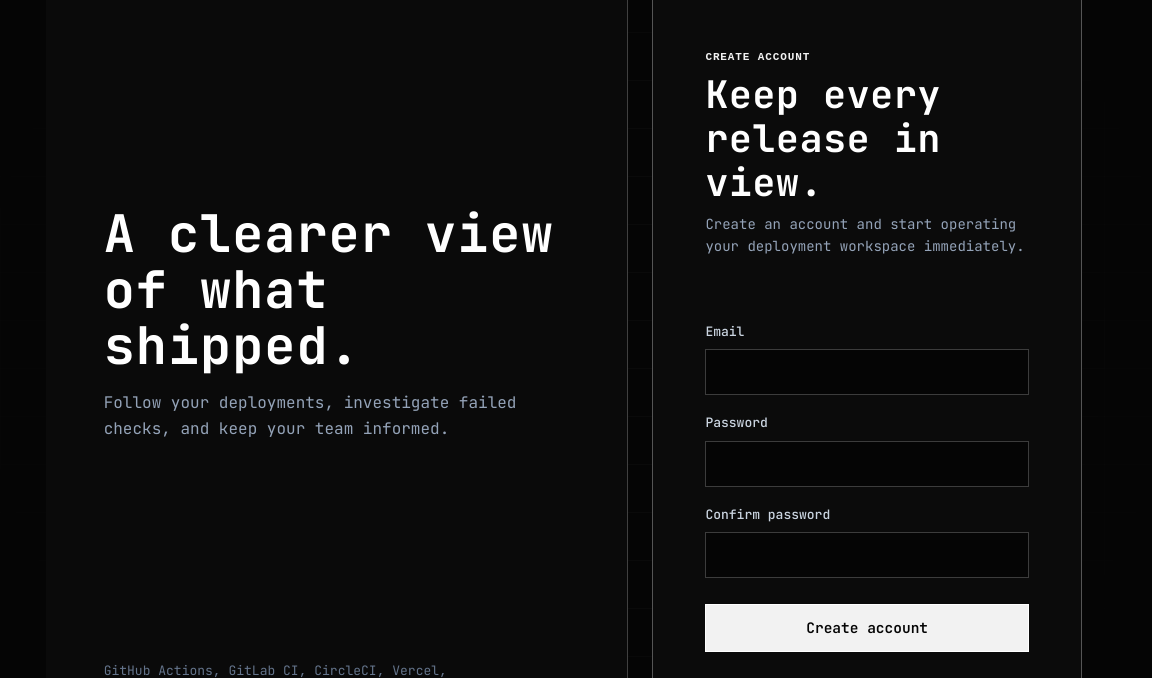
Test: authentication flow › validates signup password confirmation
The image size is (1152, 678).
(page scrolled)
Check: the heading "Keep every release in view." is shown, box [705,69,941,207]
Type "ops@example.com" into the field labelled "Email" at (867, 372), box [705,349,1029,395]
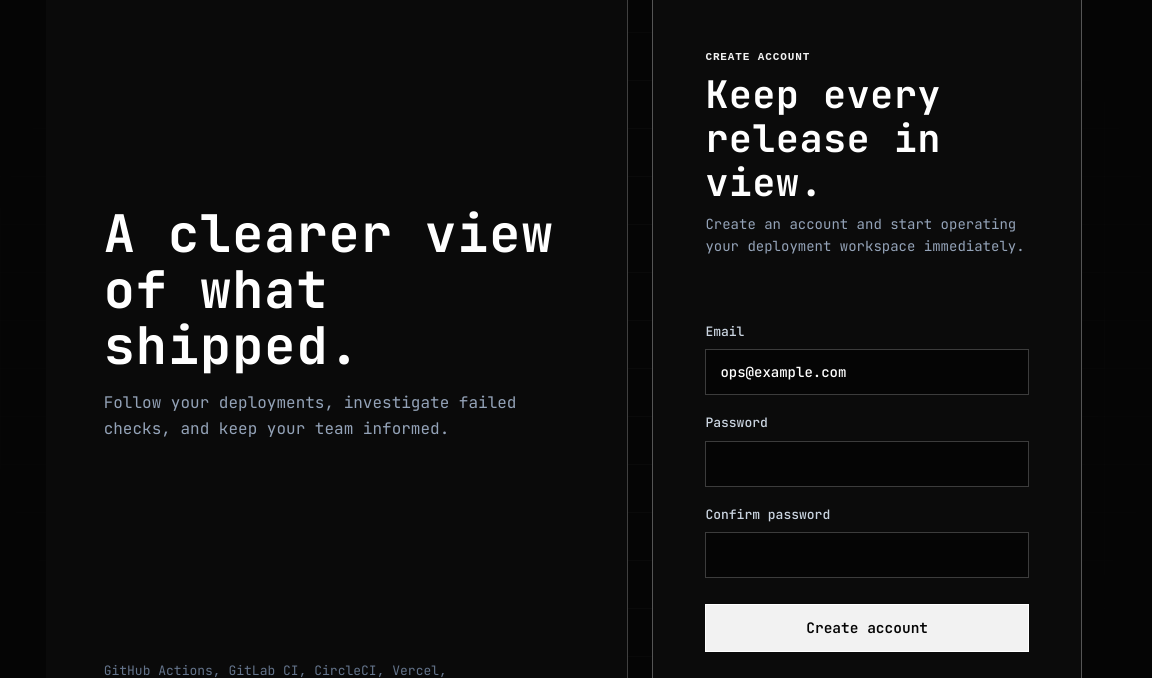
Type "password-123" into the password field labelled "Password" at (867, 464), box [705,441,1029,487]
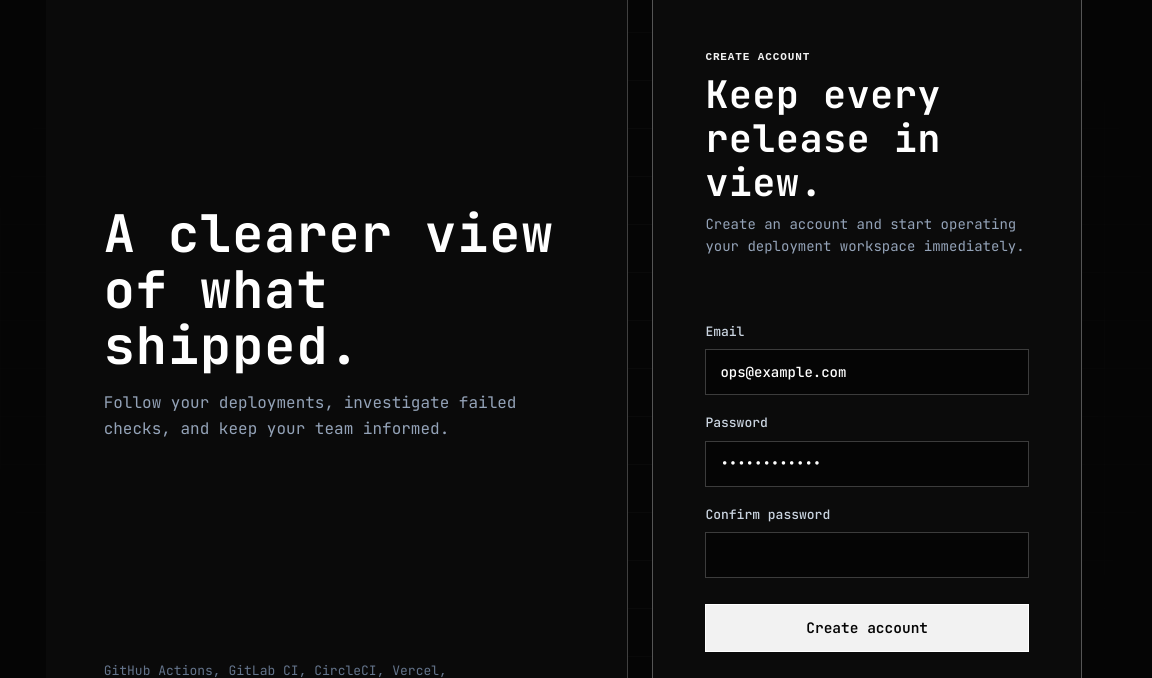
Type "different-123" into the password field labelled "Confirm password" at (867, 555), box [705,532,1029,578]
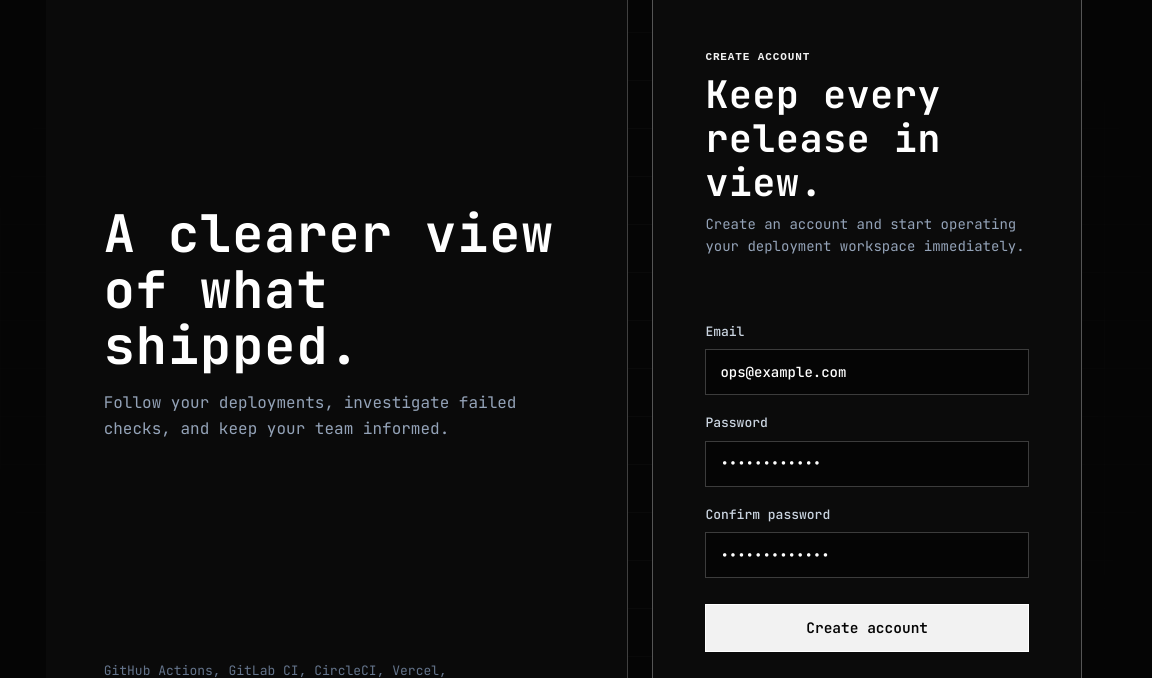
Click the button "Create account" at (867, 628), box [705,604,1029,652]
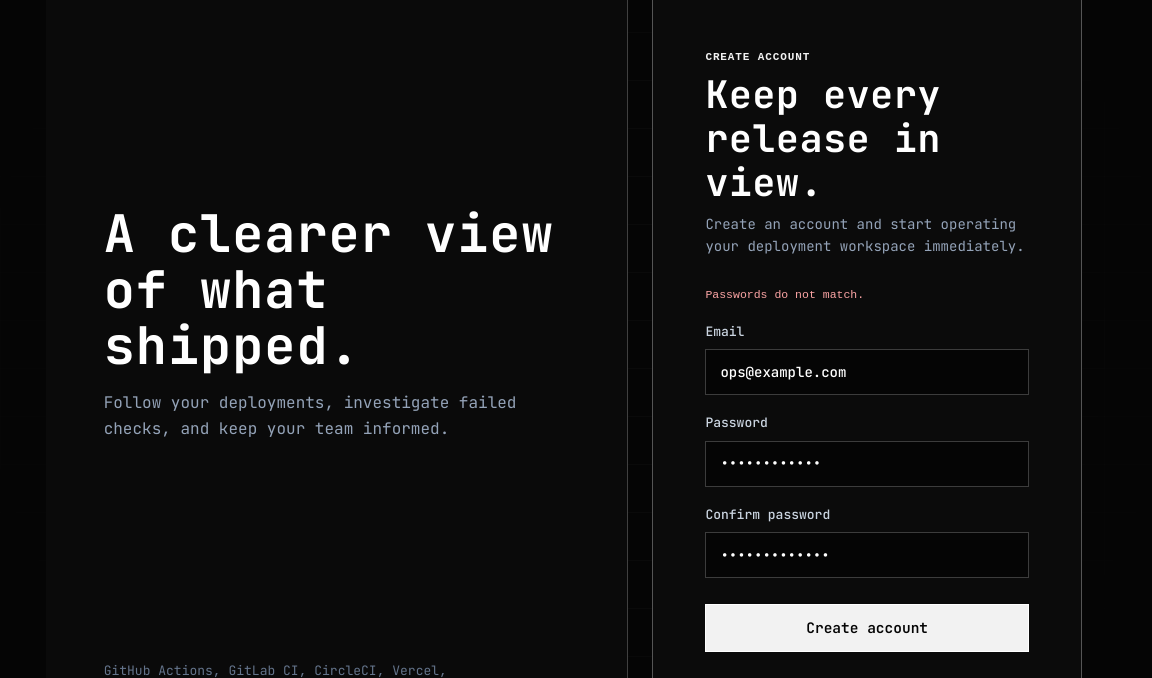
Check: the message shows "Passwords do not match", box [705,288,864,301]
